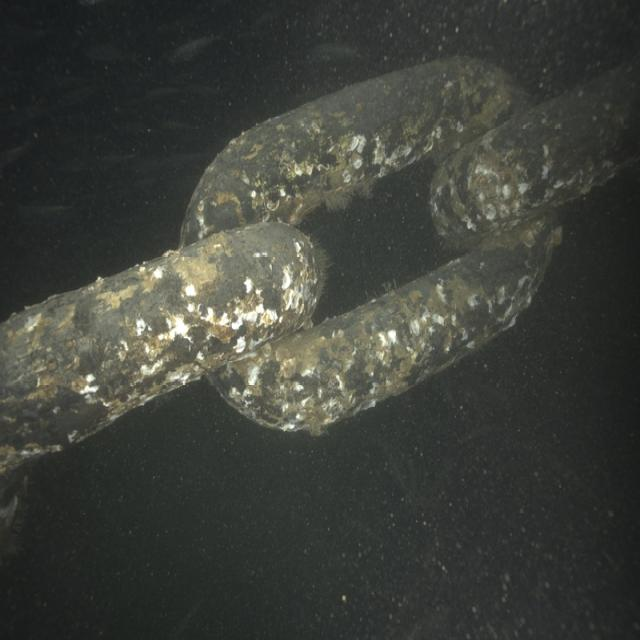ChainLink: (0, 224, 321, 474), (210, 219, 560, 432), (181, 58, 529, 245), (430, 59, 640, 243)
